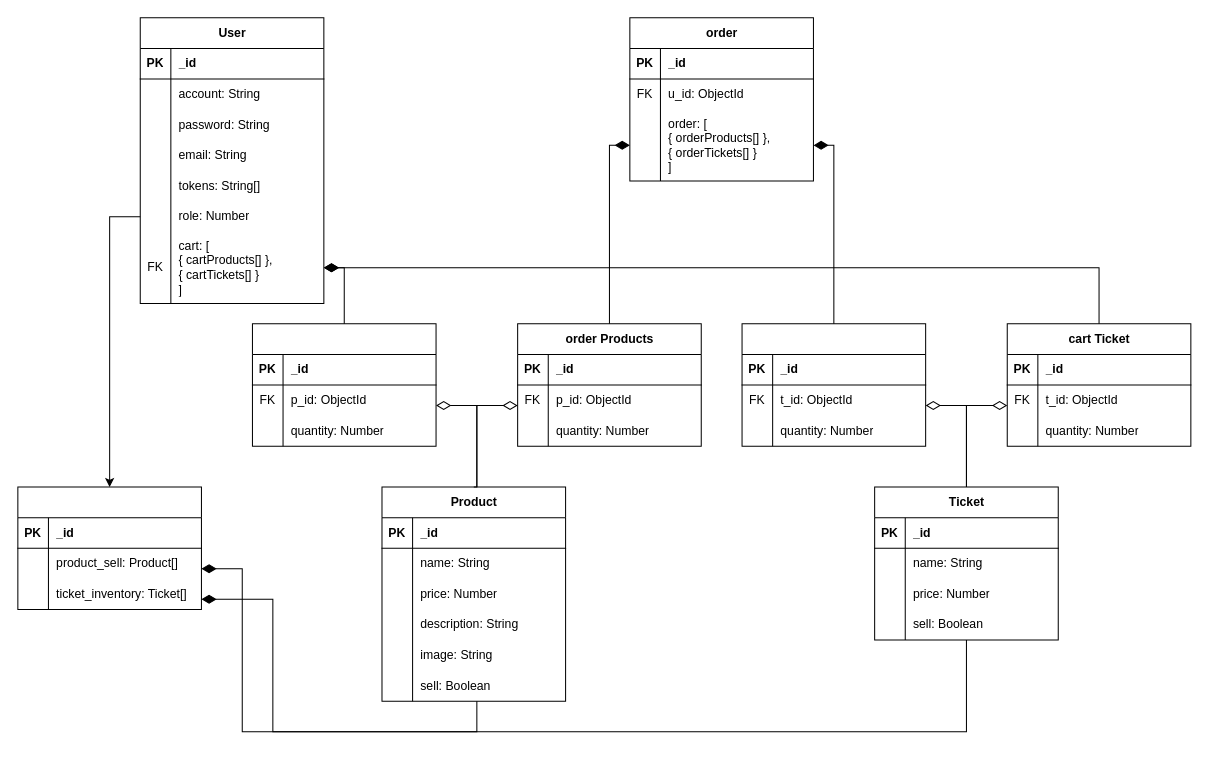
The diagram is 1209 pixels wide and 764 high, and some of its shapes have lost their labels. The shapes that lost their labels are listed below. From the top down, each one's box as (x1, y1, x2, y2) in pixels, then its label:
(251, 323, 436, 446): cart Products
(741, 323, 926, 446): order Tickets
(17, 486, 201, 609): admin
